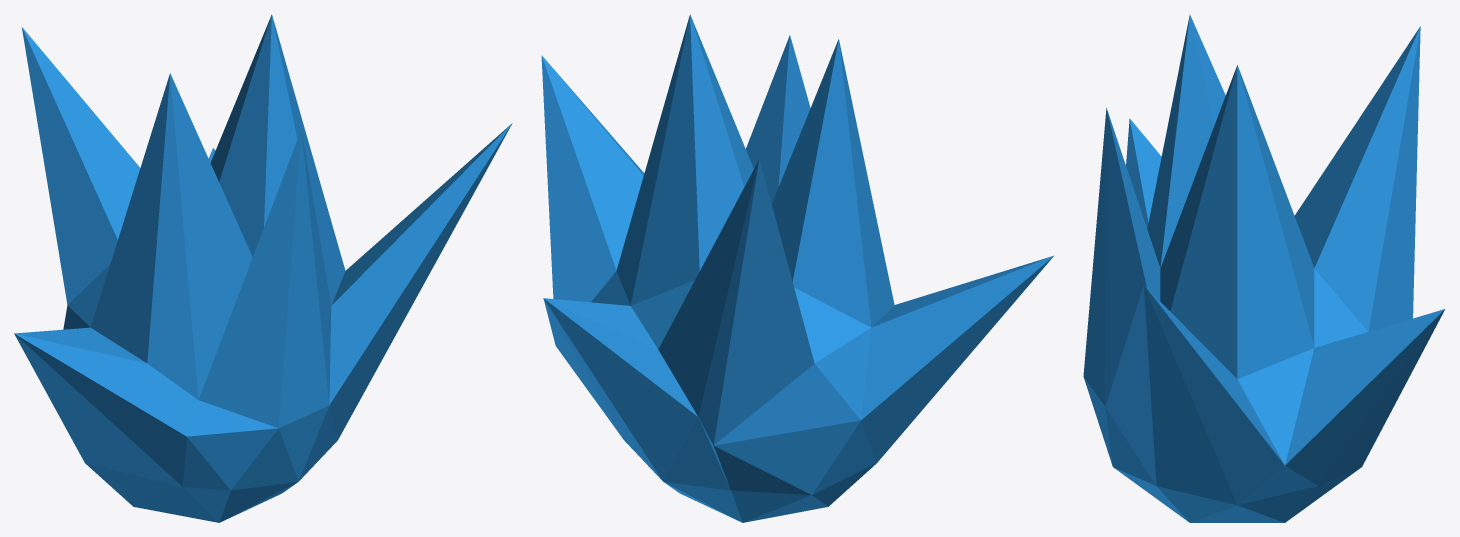
The model's file is ore.glb.
The picture shows the model from 3 angles, left to right: view 1: azimuth 30°, elevation 25°; view 2: azimuth 150°, elevation 25°; view 3: azimuth 270°, elevation 25°; orthographic projection.
Parts seen in each view (by area): view 1: Icosphere; view 2: Icosphere; view 3: Icosphere.
Part boxes in pixels (left/top/right/bottom): Icosphere: left=14, top=14, right=512, bottom=522; Icosphere: left=541, top=14, right=1053, bottom=522; Icosphere: left=1083, top=14, right=1445, bottom=522.
Size of the model in its own units: 3.84 by 3.48 by 2.35.
